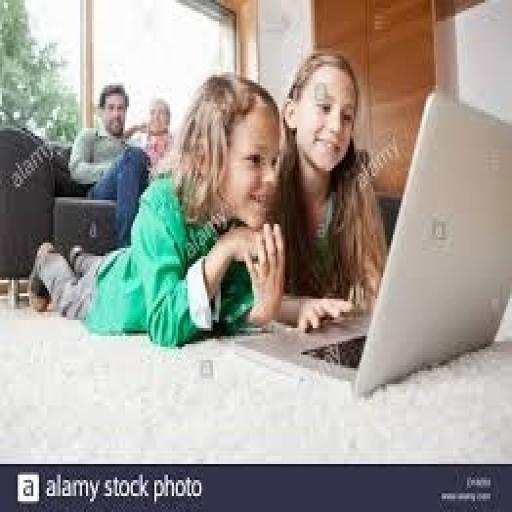using_laptop: (233, 85, 510, 400)
